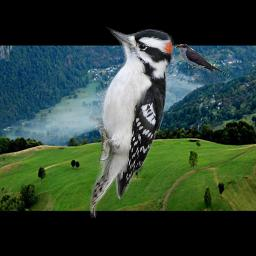Cuckoo: (175, 44, 231, 78)
Woodpecker: (89, 21, 181, 218)
